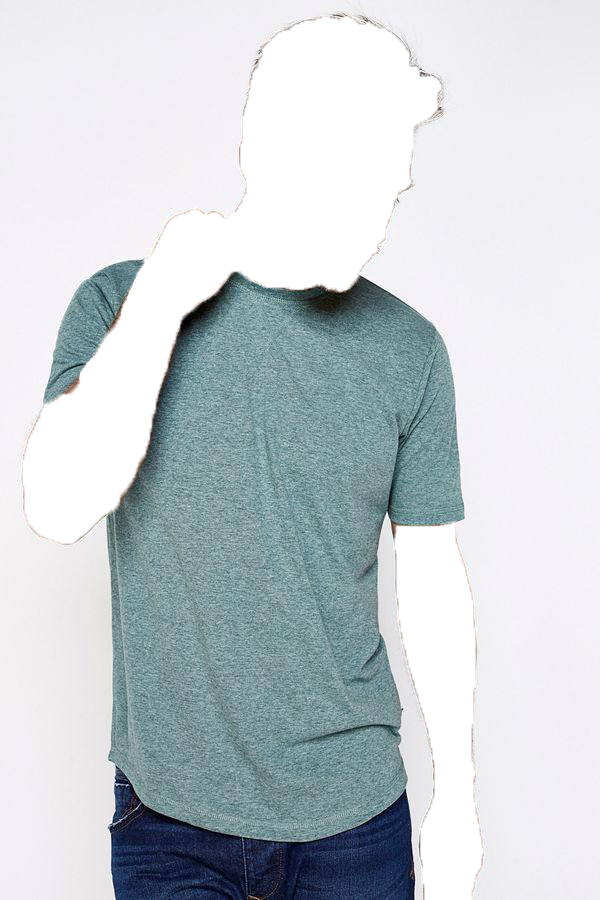teeshirt: (33, 251, 483, 848)
